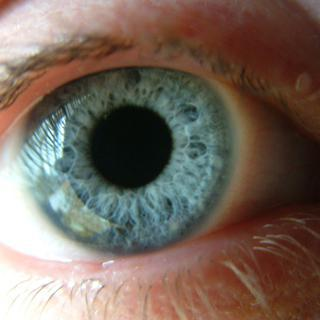pupil: (89, 106, 171, 188)
